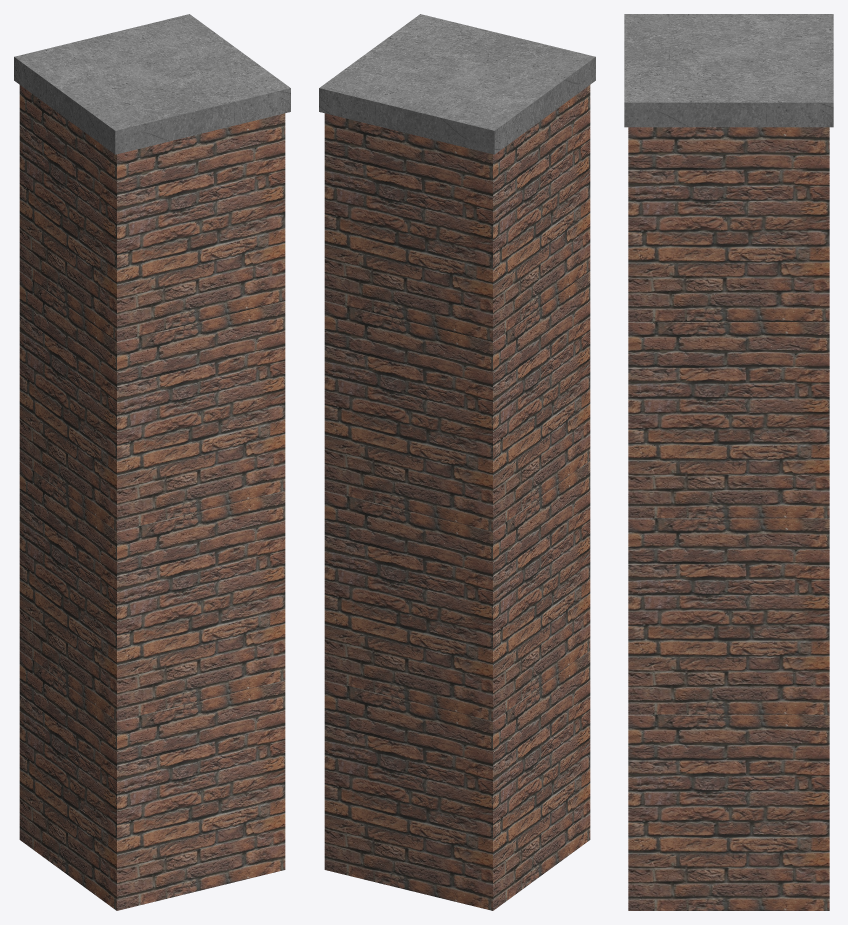
The model's file is chain_brickcornerspacer.fbx.
3 renders of one model, left to right at view 1: azimuth 30°, elevation 25°; view 2: azimuth 150°, elevation 25°; view 3: azimuth 270°, elevation 25°, orthographic. The views are drawn at different scales.
Visible parts, largest first — view 1: chain_brickcornerspacer; view 2: chain_brickcornerspacer; view 3: chain_brickcornerspacer.
Boxes of the visible parts, x1,y1,x2,y2 form: chain_brickcornerspacer: (14,14,290,910); chain_brickcornerspacer: (319,14,595,910); chain_brickcornerspacer: (624,14,833,910).
Bounding box in the file's own units: 0.6778 × 2.89 × 0.6772.
Materials: 2 (2 with a texture image).
